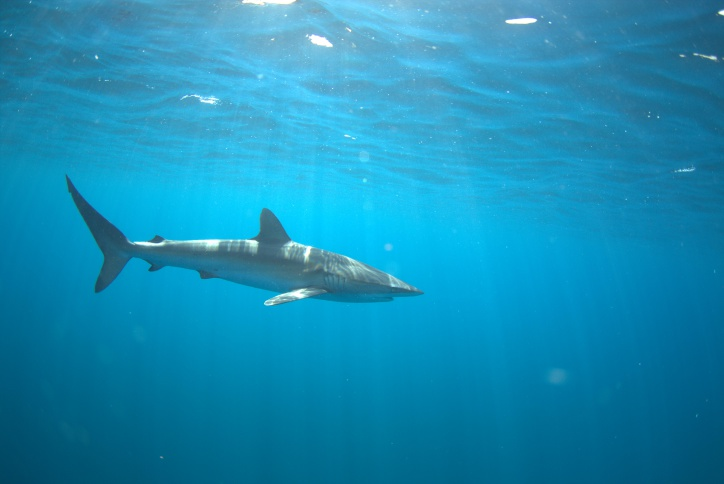Sedoso: (44, 160, 430, 334)
